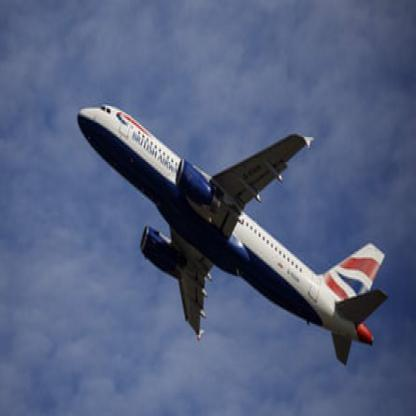CIV_Plane: (75, 102, 388, 364)
